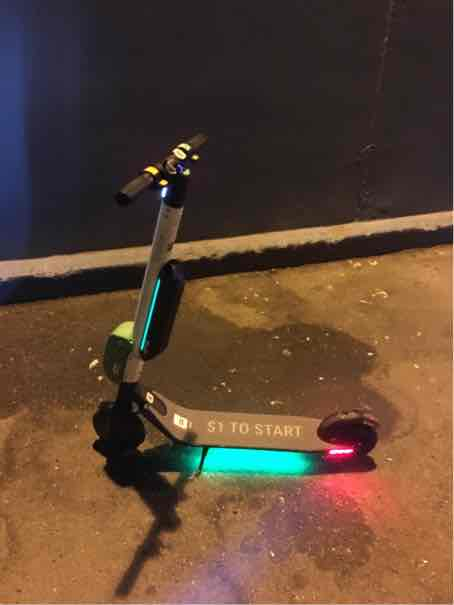scooter: (92, 137, 387, 483)
